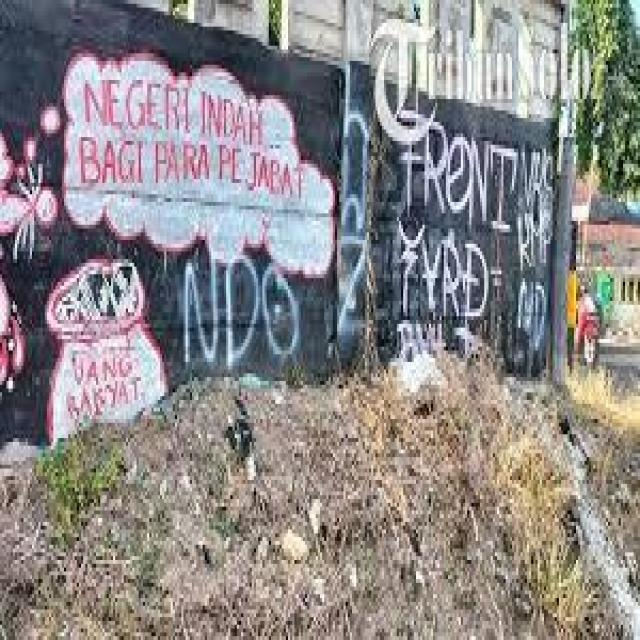nonspitting: (0, 46, 335, 446), (397, 106, 550, 352), (337, 61, 363, 344)
